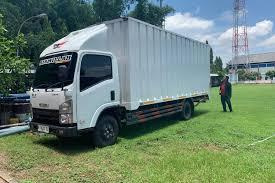truck: (26, 16, 129, 149)
